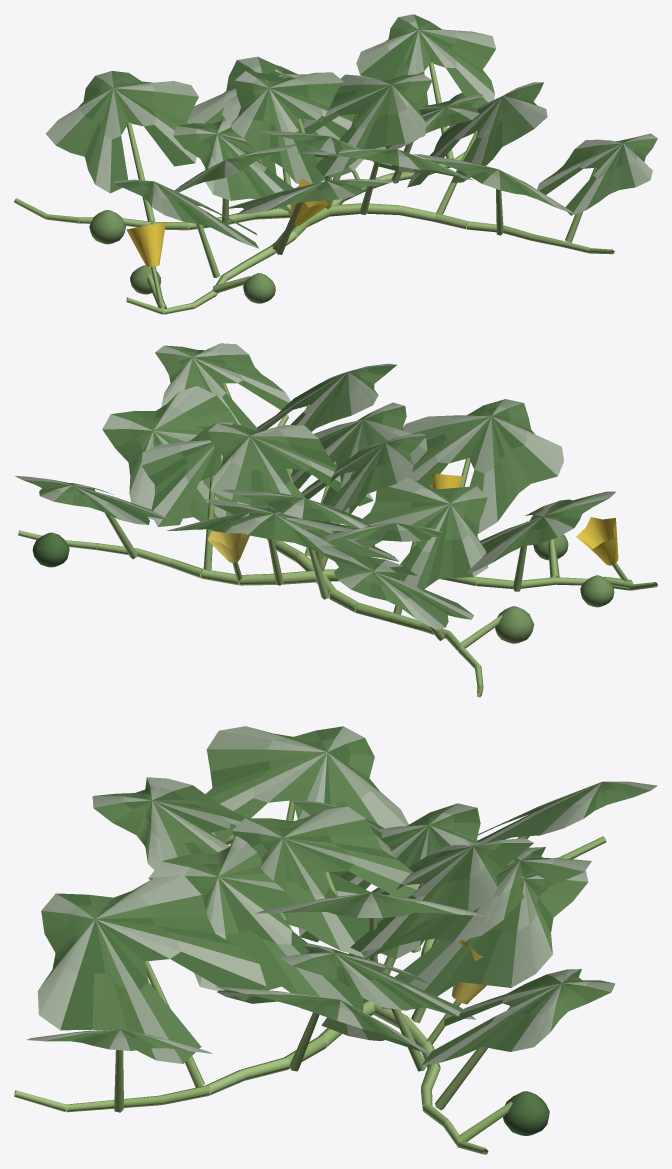
File: courge_potimarron_fruits.glb
3 views of the same model, one above another, from view 1: azimuth 30°, elevation 25°; view 2: azimuth 150°, elevation 25°; view 3: azimuth 270°, elevation 25° (orthographic). The views are drawn at different scales.
Parts seen in each view (by area): view 1: Courge_Feuilles, Courge_Tiges, Courge_Fruits, Courge_Fleurs; view 2: Courge_Feuilles, Courge_Tiges, Courge_Fruits, Courge_Fleurs; view 3: Courge_Feuilles, Courge_Tiges, Courge_Fruits, Courge_Fleurs.
Boxes of the visible parts, box(x1,y1,x2,y2) form: Courge_Feuilles: box(46, 14, 657, 248); Courge_Tiges: box(14, 62, 614, 314); Courge_Fruits: box(89, 93, 473, 303); Courge_Fleurs: box(126, 178, 328, 267); Courge_Feuilles: box(15, 343, 615, 629); Courge_Tiges: box(18, 382, 657, 697); Courge_Fruits: box(32, 532, 614, 643); Courge_Fleurs: box(207, 474, 618, 565); Courge_Feuilles: box(27, 726, 657, 1065); Courge_Tiges: box(14, 800, 606, 1154); Courge_Fruits: box(503, 1091, 549, 1135); Courge_Fleurs: box(451, 940, 486, 1004).
Bounding box in the file's own units: 1.32 × 0.3092 × 1.07.
